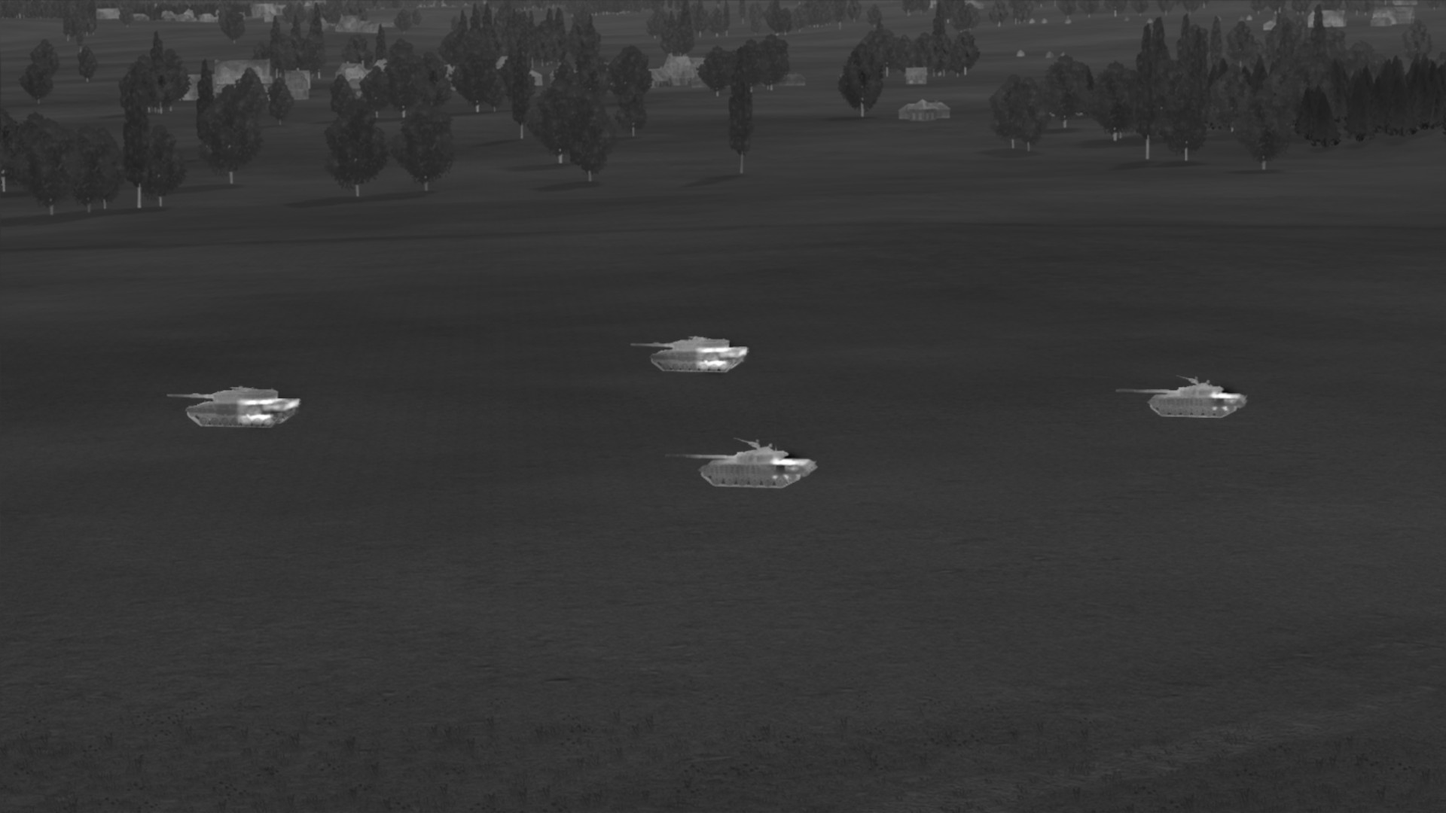leopard2: (166, 386, 302, 428), (629, 335, 749, 373)
t72b: (668, 439, 816, 488), (1116, 376, 1247, 417)
